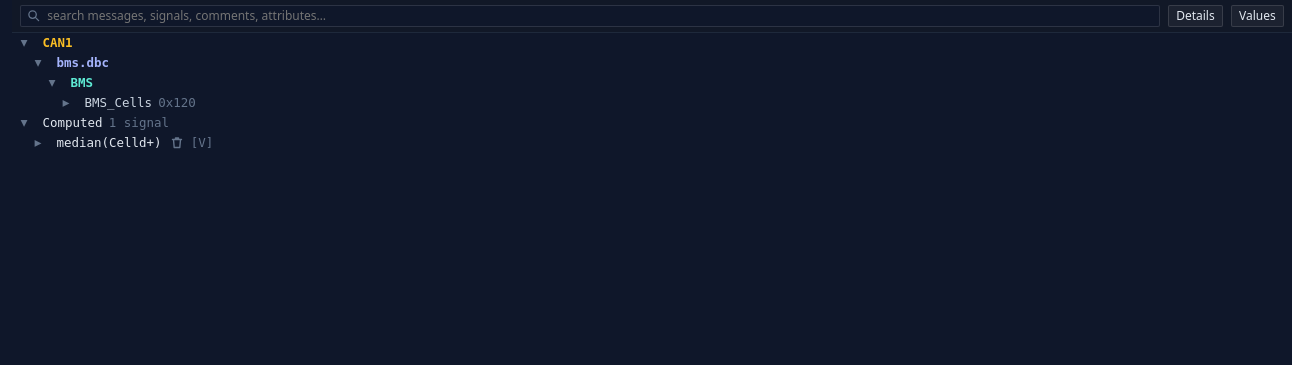
it: the set section's pattern popover › opens from the expanded editor, viewport-positioned at the button
Click the button "▸" next to "median(Celld+)" at (38, 143), box [26, 134, 50, 151]
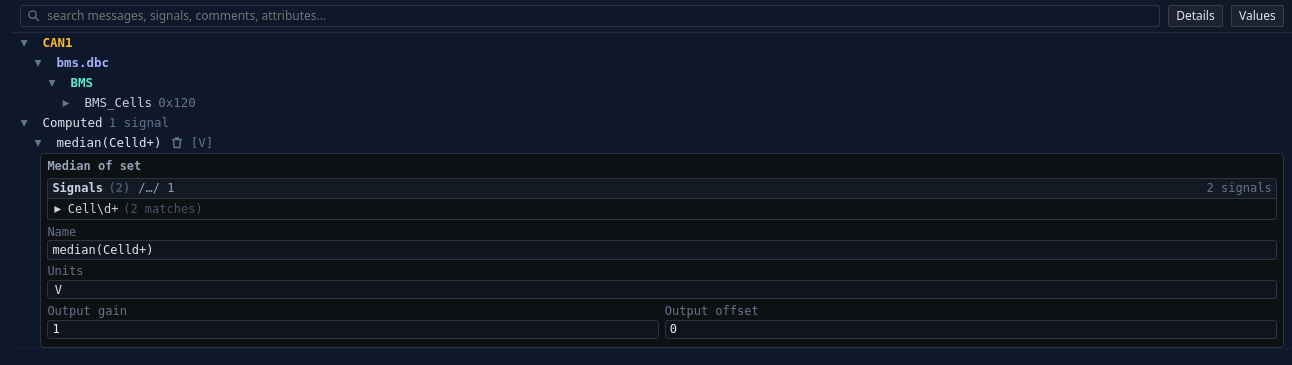
Click the button named "patterns for Signals" at (156, 188), box [136, 182, 177, 196]
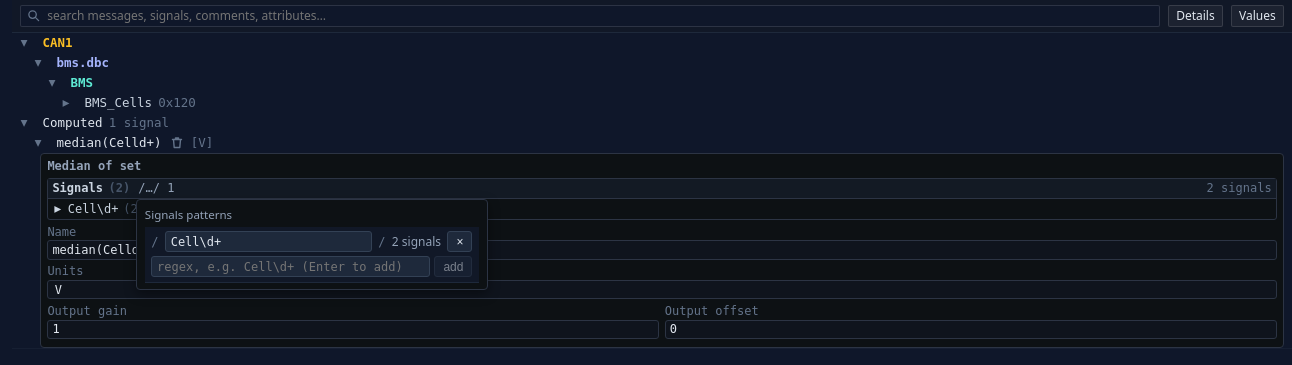
Expected: the element named "patterns in Signals" is shown, [136, 200, 488, 290]
